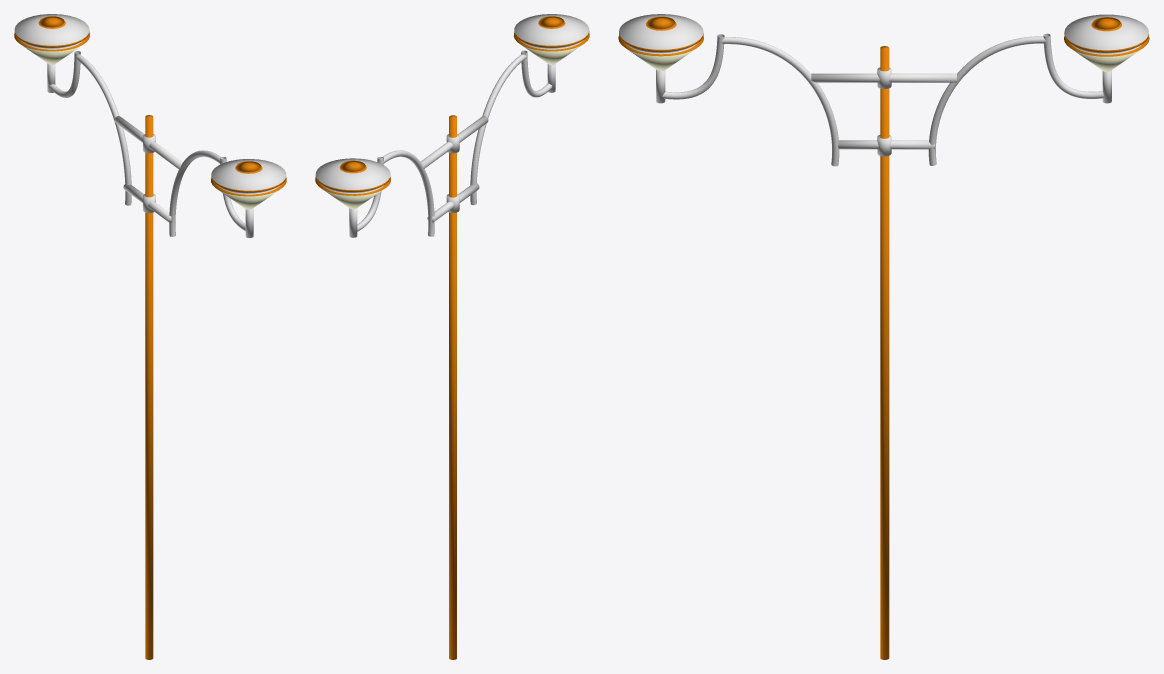
Rendered from Lamp.fbx.
3 renders of one model, left to right at view 1: azimuth 30°, elevation 25°; view 2: azimuth 150°, elevation 25°; view 3: azimuth 270°, elevation 25°, orthographic. The views are drawn at different scales.
Parts seen in each view (by area): view 1: Lamp, Main, Leaf; view 2: Lamp, Main, Leaf; view 3: Leaf, Lamp, Main.
Part boxes in pixels (x1=…): Lamp: x1=14, y1=14, x2=286, y2=209; Main: x1=145, y1=115, x2=153, y2=659; Leaf: x1=47, y1=51, x2=253, y2=237; Lamp: x1=315, y1=14, x2=589, y2=208; Main: x1=449, y1=115, x2=456, y2=659; Leaf: x1=349, y1=50, x2=555, y2=237; Leaf: x1=656, y1=33, x2=1111, y2=166; Lamp: x1=618, y1=14, x2=1149, y2=71; Main: x1=880, y1=46, x2=889, y2=659.
Bounding box in the file's own units: 292 × 47.82 × 387.
